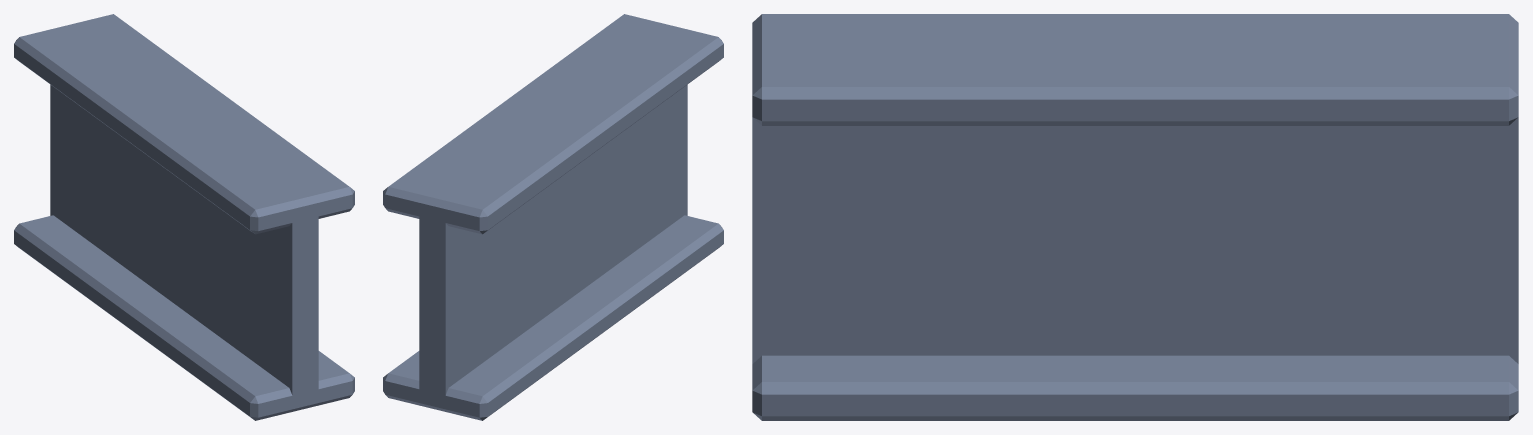
File: SM_Product_SteelBeam.fbx
The picture shows the model from 3 angles, left to right: view 1: azimuth 30°, elevation 25°; view 2: azimuth 150°, elevation 25°; view 3: azimuth 270°, elevation 25°; orthographic projection. The views are drawn at different scales.
Visible parts, largest first — view 1: SM_Product_SteelBeam; view 2: SM_Product_SteelBeam; view 3: SM_Product_SteelBeam.
Part boxes in pixels (<box>): SM_Product_SteelBeam: <box>14,14,354,420</box>; SM_Product_SteelBeam: <box>383,14,723,420</box>; SM_Product_SteelBeam: <box>752,14,1518,420</box>.
Size of the model in its own units: 0.4 by 0.77 by 1.6.
